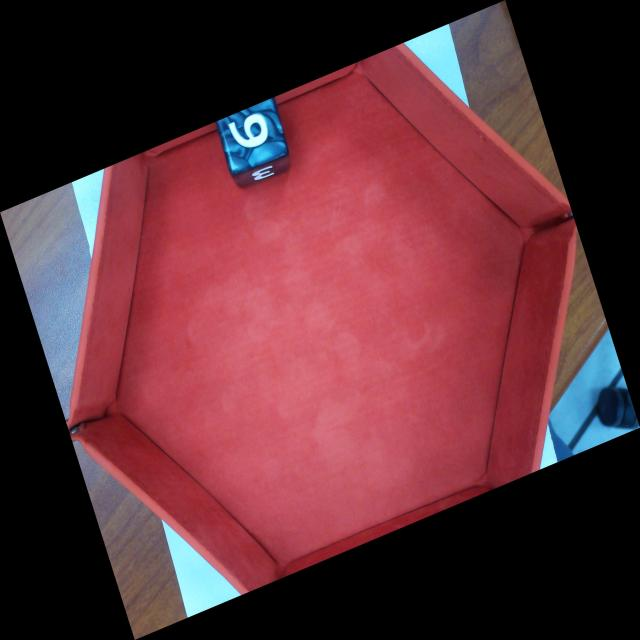dice: (222, 98, 287, 171)
